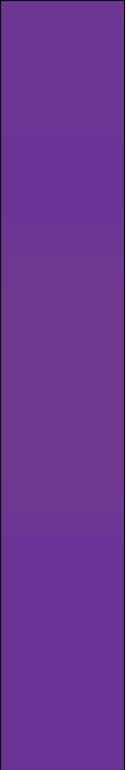safe: (9, 12, 106, 755)
